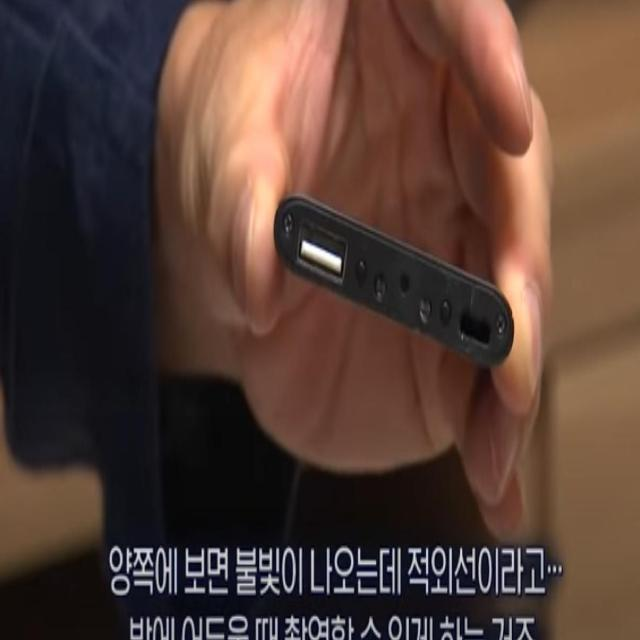hidden camera: (398, 276, 411, 296)
